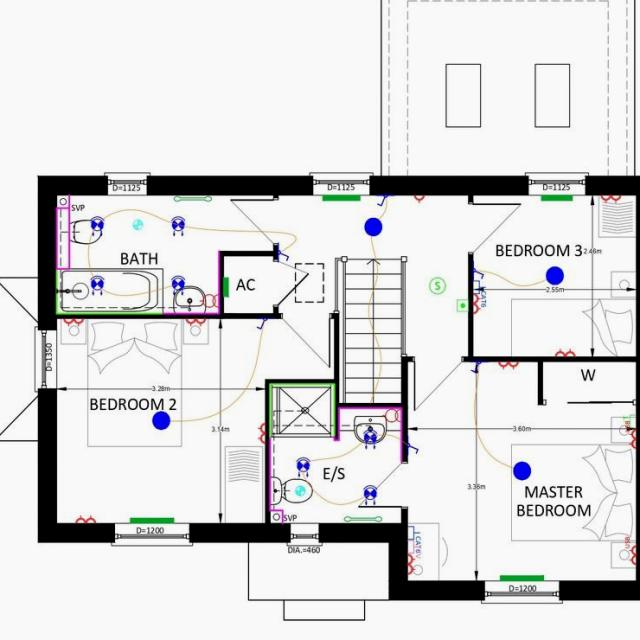Cat 6 Data Socket: (473, 279, 485, 307), (408, 525, 420, 552)
Ceiling Mounted Continuous Extract FanWith Boost Mode Activated By Light Switch: (131, 219, 142, 228), (295, 485, 304, 495)
Co-Ax TV Socket: (406, 539, 419, 557)
Double Socket: (624, 420, 635, 448), (256, 422, 265, 443), (472, 294, 481, 314), (185, 317, 205, 326), (599, 194, 621, 202), (74, 514, 94, 522), (554, 348, 574, 356), (407, 554, 415, 574), (497, 362, 518, 369)
Full Height Tiling: (55, 270, 159, 313), (268, 382, 335, 438)
Light Switch: (377, 194, 388, 206), (408, 442, 418, 453), (470, 362, 481, 372), (473, 268, 483, 279), (256, 318, 266, 329), (278, 250, 288, 259)
Low Energy Downlighter: (88, 274, 104, 294), (362, 428, 377, 449), (89, 216, 104, 236), (362, 484, 377, 504), (170, 216, 184, 236), (170, 274, 184, 294), (296, 456, 310, 476)
Low Energy Pendant Light: (511, 460, 530, 480), (363, 217, 382, 236), (151, 410, 169, 429), (545, 266, 563, 284)
Mains Wired Smoke Detector: (429, 277, 445, 293)
Programmable Room Thermostat: (455, 298, 467, 312)
Radiator: (322, 193, 360, 200), (130, 517, 174, 523), (499, 574, 543, 580), (540, 194, 572, 200), (222, 276, 228, 297)
Shaver Socket: (382, 408, 402, 422), (200, 293, 218, 307)
Single Socket: (412, 195, 424, 202)
Telephone Socket: (624, 414, 636, 428)
USB Double Socket: (624, 536, 636, 566)
